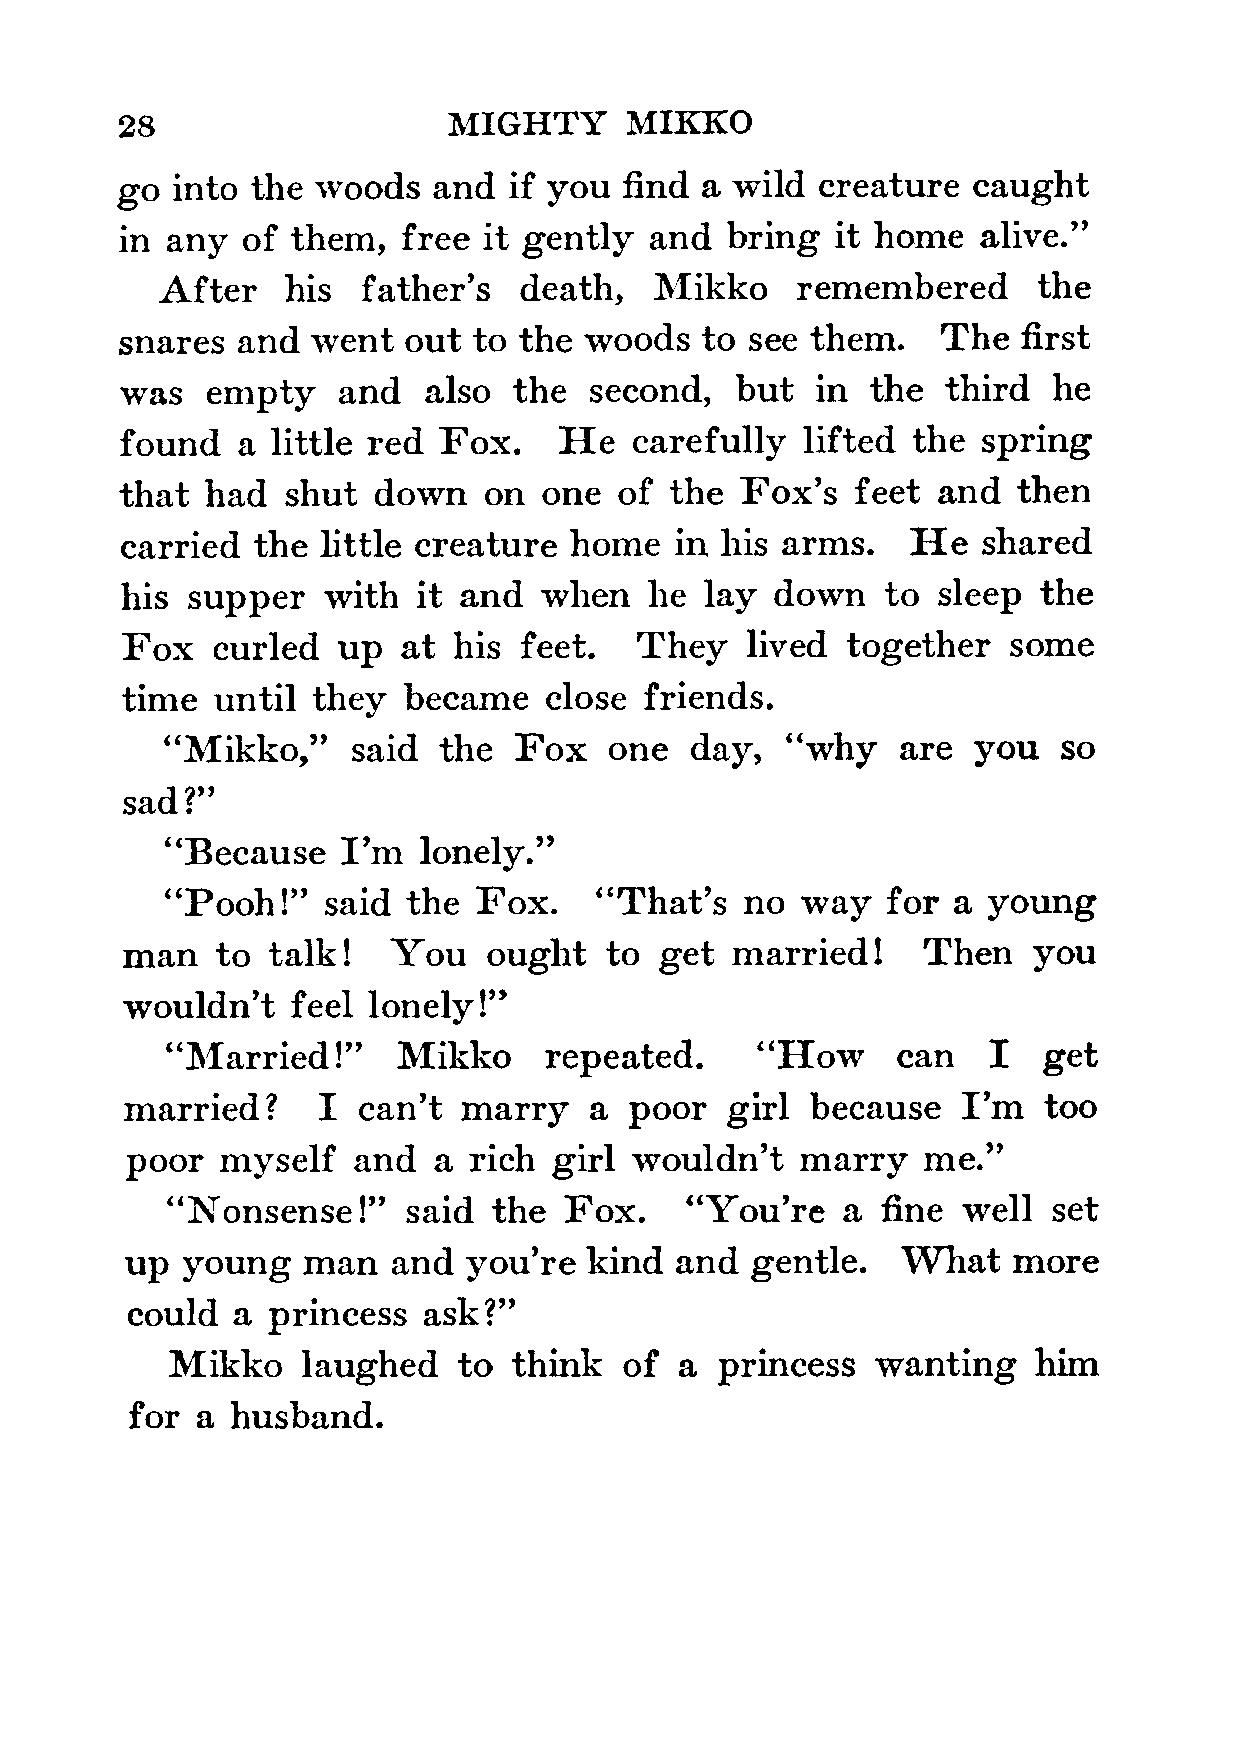content: (114, 166, 1104, 1439)
content_chapter: (439, 103, 756, 136)
content_pagenumber: (111, 111, 157, 141)
